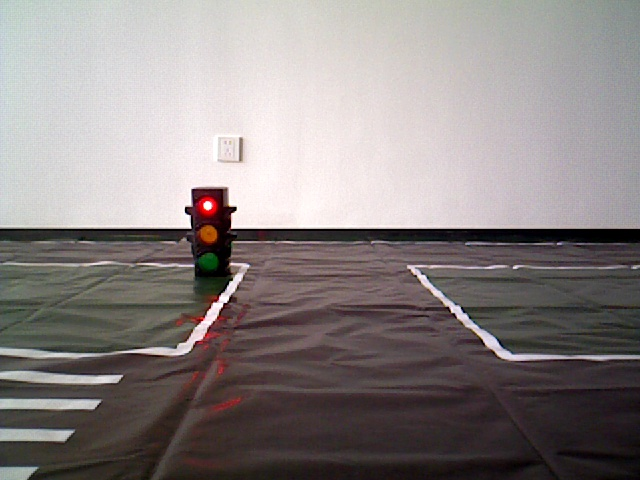red: (191, 188, 225, 286)
